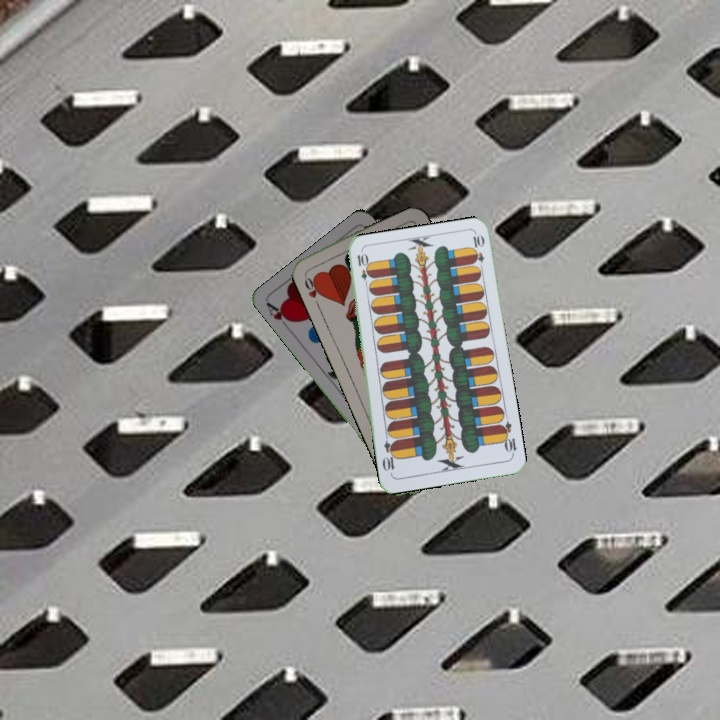E10: (496, 418, 519, 458), (353, 249, 372, 290)
HA: (263, 299, 296, 333)
HO: (300, 270, 326, 309)
